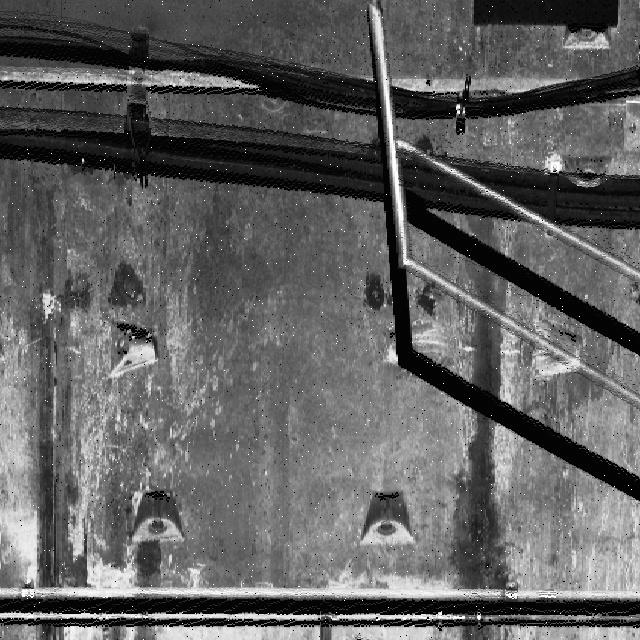leakage: (450, 214, 519, 640), (27, 347, 93, 640), (129, 538, 166, 640)
